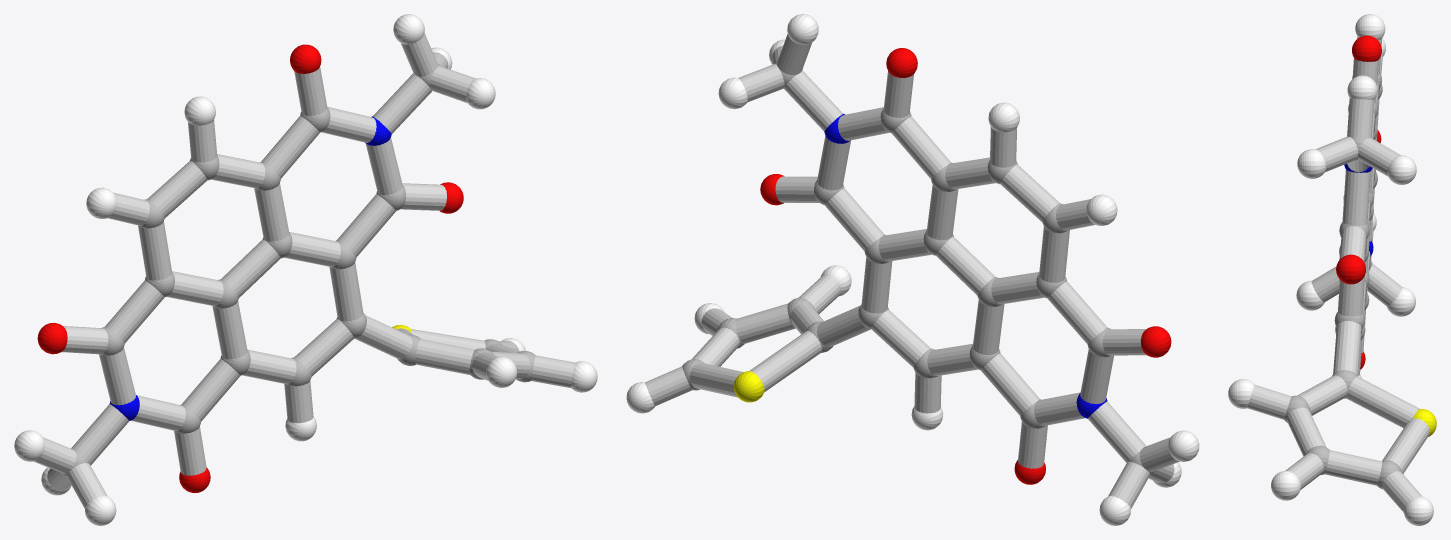
The model's file is Dimethyl_Naphthalene_Dicarboximide_Phi_15_Theta_80_Thiophene.glb.
3 views of the same model, side by side, from view 1: azimuth 30°, elevation 25°; view 2: azimuth 150°, elevation 25°; view 3: azimuth 270°, elevation 25° (orthographic). The views are drawn at different scales.
Visible parts, largest first — view 1: grp14119, grp7241, grp1, grp12309, grp11585; view 2: grp14119, grp7241, grp1, grp12309, grp13757, grp11585; view 3: grp14119, grp7241, grp1, grp12309, grp13757.
Boxes of the visible parts, box(x1,y1,x2,y2) form: grp14119: box(33, 33, 575, 508); grp7241: box(14, 14, 597, 525); grp1: box(62, 63, 535, 477); grp12309: box(37, 44, 463, 492); grp11585: box(109, 116, 391, 420); grp14119: box(645, 34, 1179, 508); grp7241: box(626, 14, 1199, 525); grp1: box(682, 61, 1154, 475); grp12309: box(760, 48, 1171, 484); grp13757: box(734, 371, 764, 402); grp11585: box(824, 114, 1107, 418); grp14119: box(1247, 37, 1429, 512); grp7241: box(1228, 14, 1433, 525); grp1: box(1284, 73, 1402, 489); grp12309: box(1336, 35, 1381, 369); grp13757: box(1412, 409, 1436, 436).
Bounding box in the file's own units: 11.84 × 8.76 × 4.16.
